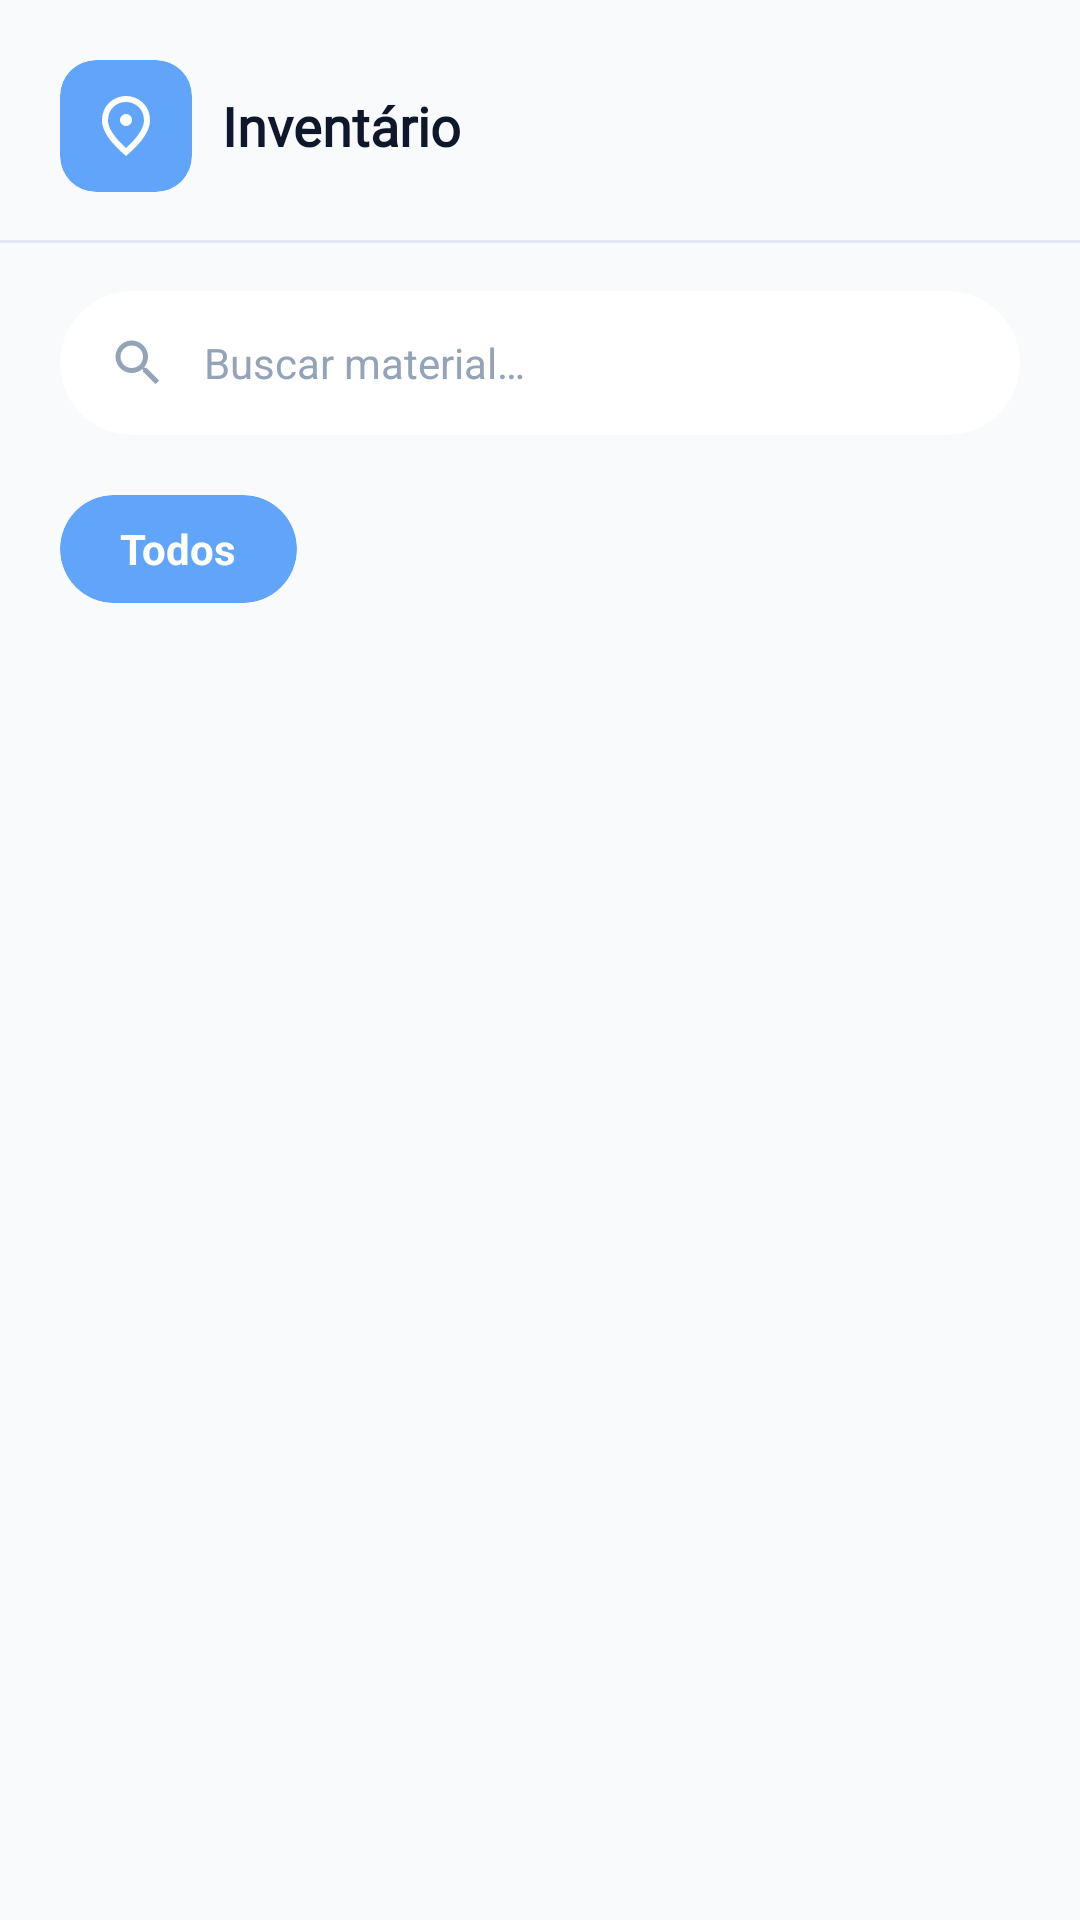

Icon click points for this 1080×1920 phone screenshot, format point (x, y):
location pin: point (126, 126)
search: point (137, 362)
